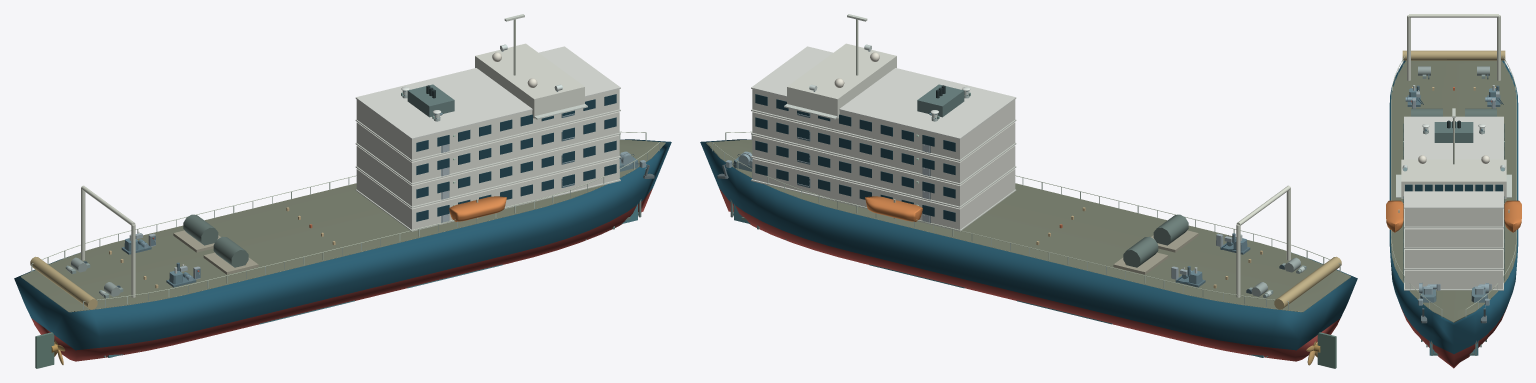
File: kirkella.lod0.glb
3 renders of one model, left to right at view 1: azimuth 30°, elevation 25°; view 2: azimuth 150°, elevation 25°; view 3: azimuth 270°, elevation 25°, orthographic. The views are drawn at different scales.
Visible parts, largest first — view 1: kirkella.structure.hull.outer-hull-shell.1, kirkella.structure.decks.main-strength-deck.1, kirkella.accommodation.superstructure.superstructure-weather, kirkella.structure.hull.antifouling-underwater-shell.1, kirkella.accommodation.superstructure.deck-3-enclosure.1, kirkella.accommodation.superstructure.deck-2-enclosure.1, kirkella.navigation.bridge.wheelhouse.1, kirkella.accommodation.superstructure.deck-1-enclosure.1, kirkella.accommodation.superstructure.deck-4-enclosure.1, kirkella.propulsion.exhaust.exhaust-casing.1, kirkella.safety.survival-craft.lifeboat-starboard-1.1, kirkella.cargo.working-deck.stern-roller.1 (+6 smaller); view 2: kirkella.structure.hull.outer-hull-shell.1, kirkella.structure.decks.main-strength-deck.1, kirkella.accommodation.superstructure.superstructure-weather, kirkella.structure.hull.antifouling-underwater-shell.1, kirkella.accommodation.superstructure.deck-3-enclosure.1, kirkella.accommodation.superstructure.deck-2-enclosure.1, kirkella.navigation.bridge.wheelhouse.1, kirkella.accommodation.superstructure.deck-1-enclosure.1, kirkella.accommodation.superstructure.deck-4-enclosure.1, kirkella.propulsion.exhaust.exhaust-casing.1, kirkella.safety.survival-craft.lifeboat-port-1.1, kirkella.cargo.working-deck.stern-roller.1 (+6 smaller); view 3: kirkella.structure.decks.main-strength-deck.1, kirkella.accommodation.superstructure.superstructure-weather, kirkella.structure.hull.outer-hull-shell.1, kirkella.navigation.bridge.wheelhouse.1, kirkella.accommodation.superstructure.deck-2-enclosure.1, kirkella.accommodation.superstructure.deck-3-enclosure.1, kirkella.accommodation.superstructure.deck-4-enclosure.1, kirkella.accommodation.superstructure.deck-1-enclosure.1, kirkella.cargo.working-deck.stern-roller.1, kirkella.propulsion.exhaust.exhaust-casing.1, kirkella.structure.hull.antifouling-underwater-shell.1, kirkella.safety.survival-craft.lifeboat-port-1.1 (+16 smaller).
Boxes of the visible parts, bbox=[...] form: kirkella.structure.hull.outer-hull-shell.1: bbox=[14, 139, 671, 350]; kirkella.structure.decks.main-strength-deck.1: bbox=[21, 140, 665, 312]; kirkella.accommodation.superstructure.superstructure-weather: bbox=[355, 46, 620, 139]; kirkella.structure.hull.antifouling-underwater-shell.1: bbox=[31, 188, 652, 361]; kirkella.accommodation.superstructure.deck-3-enclosure.1: bbox=[356, 111, 619, 183]; kirkella.accommodation.superstructure.deck-2-enclosure.1: bbox=[356, 135, 619, 206]; kirkella.navigation.bridge.wheelhouse.1: bbox=[475, 43, 584, 118]; kirkella.accommodation.superstructure.deck-1-enclosure.1: bbox=[356, 158, 619, 229]; kirkella.accommodation.superstructure.deck-4-enclosure.1: bbox=[356, 89, 619, 159]; kirkella.propulsion.exhaust.exhaust-casing.1: bbox=[407, 84, 454, 117]; kirkella.safety.survival-craft.lifeboat-starboard-1.1: bbox=[449, 196, 506, 221]; kirkella.cargo.working-deck.stern-roller.1: bbox=[30, 256, 97, 309]; kirkella.structure.hull.outer-hull-shell.1: bbox=[700, 139, 1357, 350]; kirkella.structure.decks.main-strength-deck.1: bbox=[706, 140, 1350, 312]; kirkella.accommodation.superstructure.superstructure-weather: bbox=[751, 46, 1016, 139]; kirkella.structure.hull.antifouling-underwater-shell.1: bbox=[719, 188, 1340, 361]; kirkella.accommodation.superstructure.deck-3-enclosure.1: bbox=[752, 111, 1015, 183]; kirkella.accommodation.superstructure.deck-2-enclosure.1: bbox=[752, 135, 1015, 206]; kirkella.navigation.bridge.wheelhouse.1: bbox=[787, 43, 896, 118]; kirkella.accommodation.superstructure.deck-1-enclosure.1: bbox=[752, 158, 1015, 229]; kirkella.accommodation.superstructure.deck-4-enclosure.1: bbox=[752, 89, 1015, 159]; kirkella.propulsion.exhaust.exhaust-casing.1: bbox=[917, 84, 964, 117]; kirkella.safety.survival-craft.lifeboat-port-1.1: bbox=[865, 196, 922, 221]; kirkella.cargo.working-deck.stern-roller.1: bbox=[1274, 256, 1341, 309]; kirkella.structure.decks.main-strength-deck.1: bbox=[1391, 60, 1516, 322]; kirkella.accommodation.superstructure.superstructure-weather: bbox=[1404, 116, 1503, 208]; kirkella.structure.hull.outer-hull-shell.1: bbox=[1389, 60, 1518, 353]; kirkella.navigation.bridge.wheelhouse.1: bbox=[1401, 159, 1506, 198]; kirkella.accommodation.superstructure.deck-2-enclosure.1: bbox=[1405, 249, 1502, 268]; kirkella.accommodation.superstructure.deck-3-enclosure.1: bbox=[1405, 228, 1502, 247]; kirkella.accommodation.superstructure.deck-4-enclosure.1: bbox=[1405, 208, 1502, 226]; kirkella.accommodation.superstructure.deck-1-enclosure.1: bbox=[1405, 270, 1502, 288]; kirkella.cargo.working-deck.stern-roller.1: bbox=[1402, 50, 1505, 60]; kirkella.propulsion.exhaust.exhaust-casing.1: bbox=[1434, 122, 1473, 142]; kirkella.structure.hull.antifouling-underwater-shell.1: bbox=[1400, 306, 1507, 368]; kirkella.safety.survival-craft.lifeboat-port-1.1: bbox=[1504, 200, 1521, 232].
Bounding box in the file's own units: 81.32 × 28.7 × 16.92.
